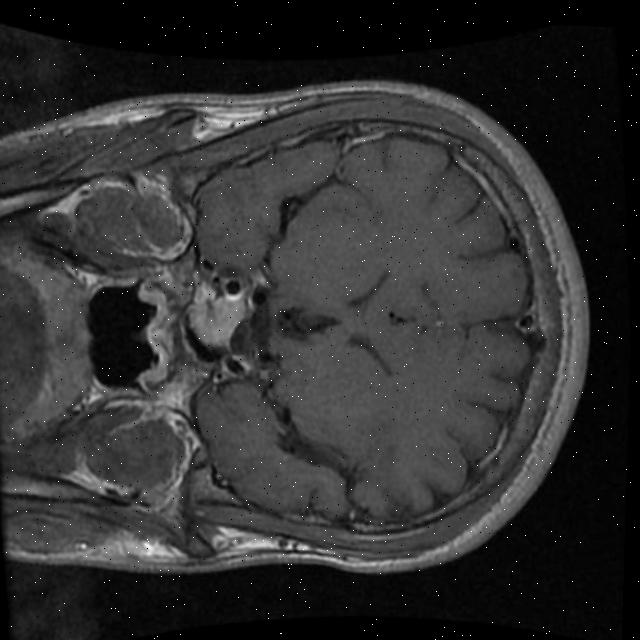Pituitary: (186, 290, 248, 354)
